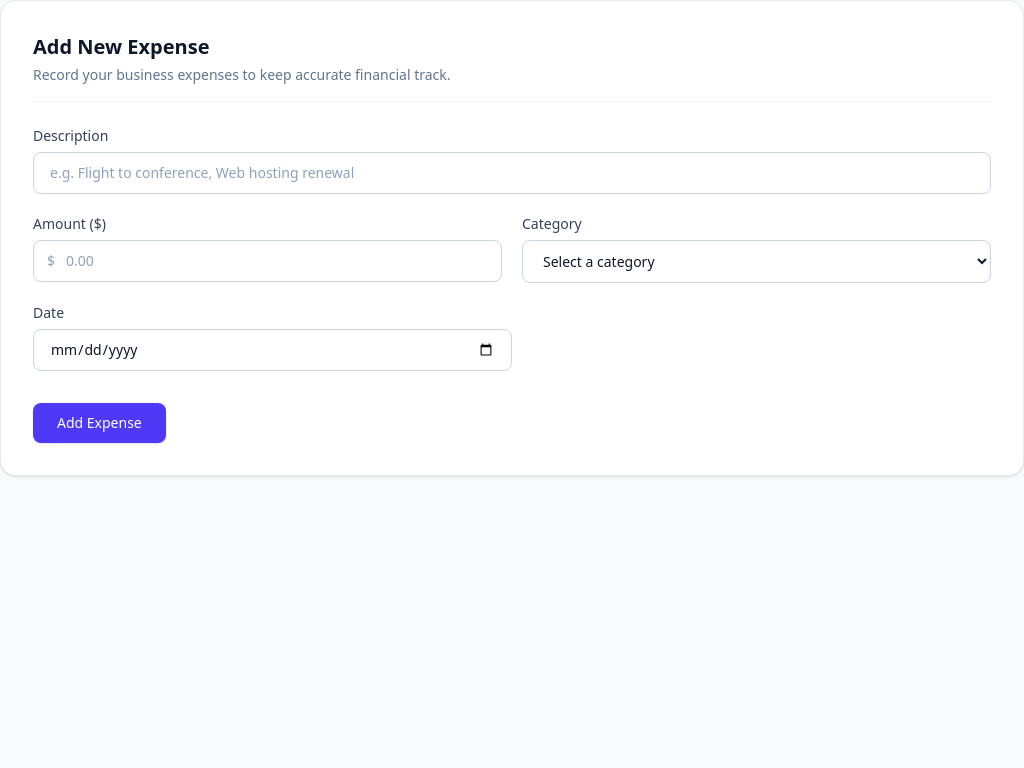
Test: ExpenseForm Component › displays inline error when amount is zero or negative
The image size is (1024, 768).
Type "0" into the number field labelled "Amount ($)" at (268, 261), box [33,240,502,282]
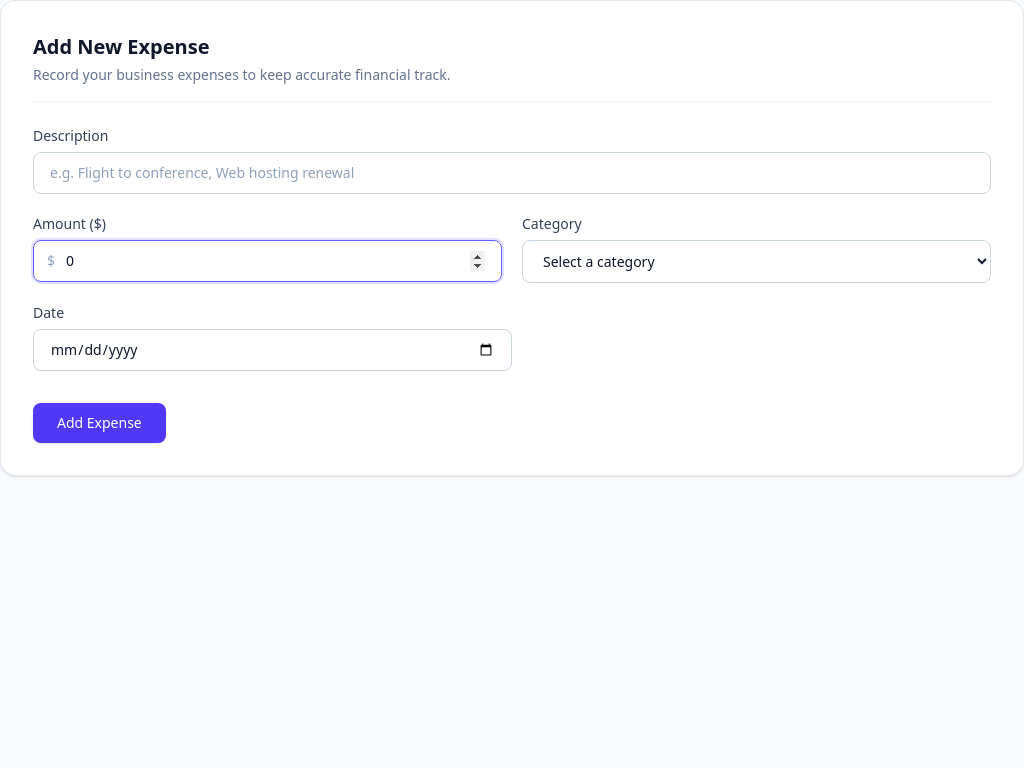
Click the button "Add Expense" at (99, 423), box [33,403,166,443]
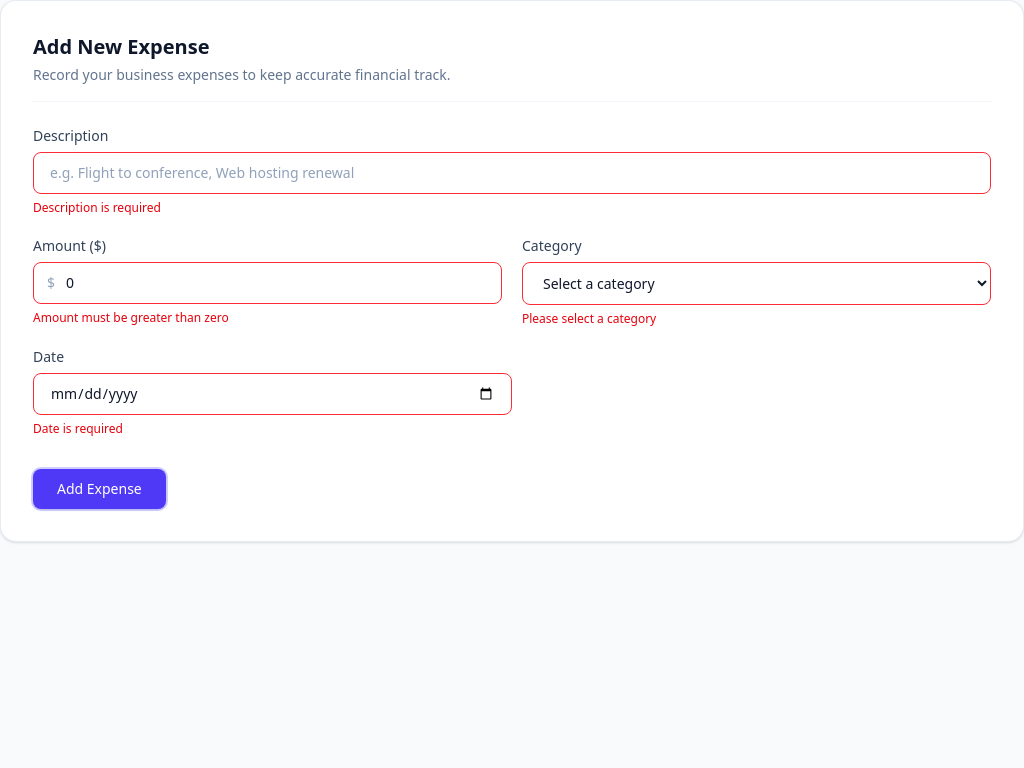
Check: the text "Amount must be greater than zero" is shown, box [33,309,229,326]
Replace the text in the number field labelled "Amount ($)" with "-25" at (268, 283), box [33,262,502,304]
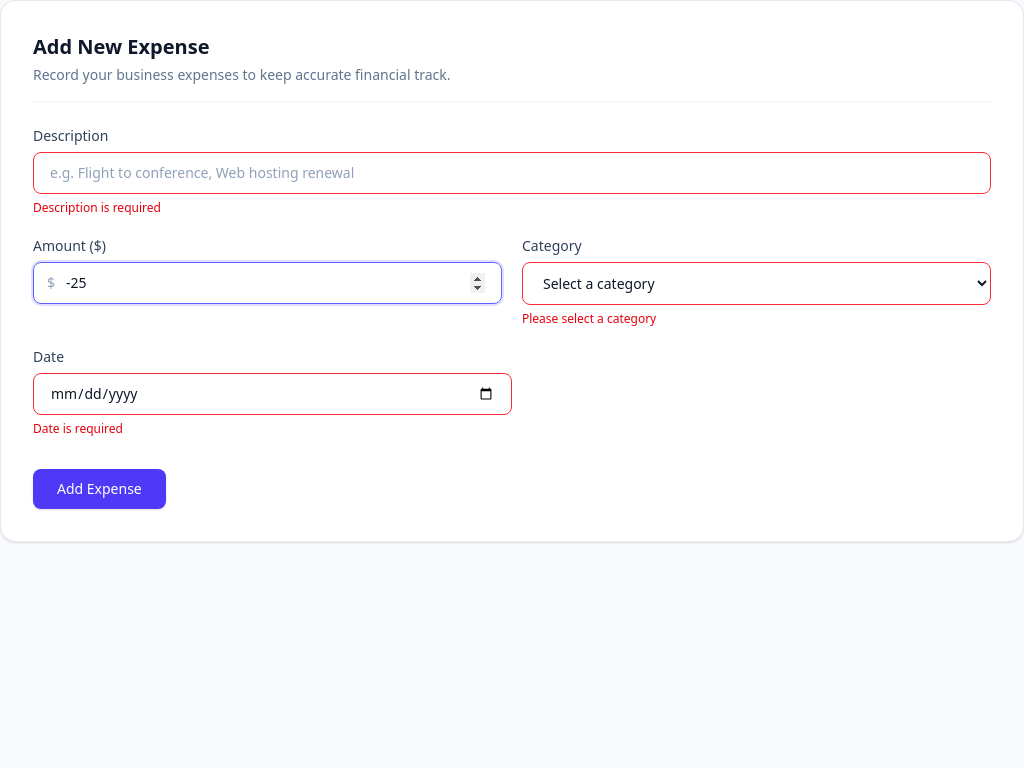
Click the button "Add Expense" at (99, 489), box [33,469,166,509]
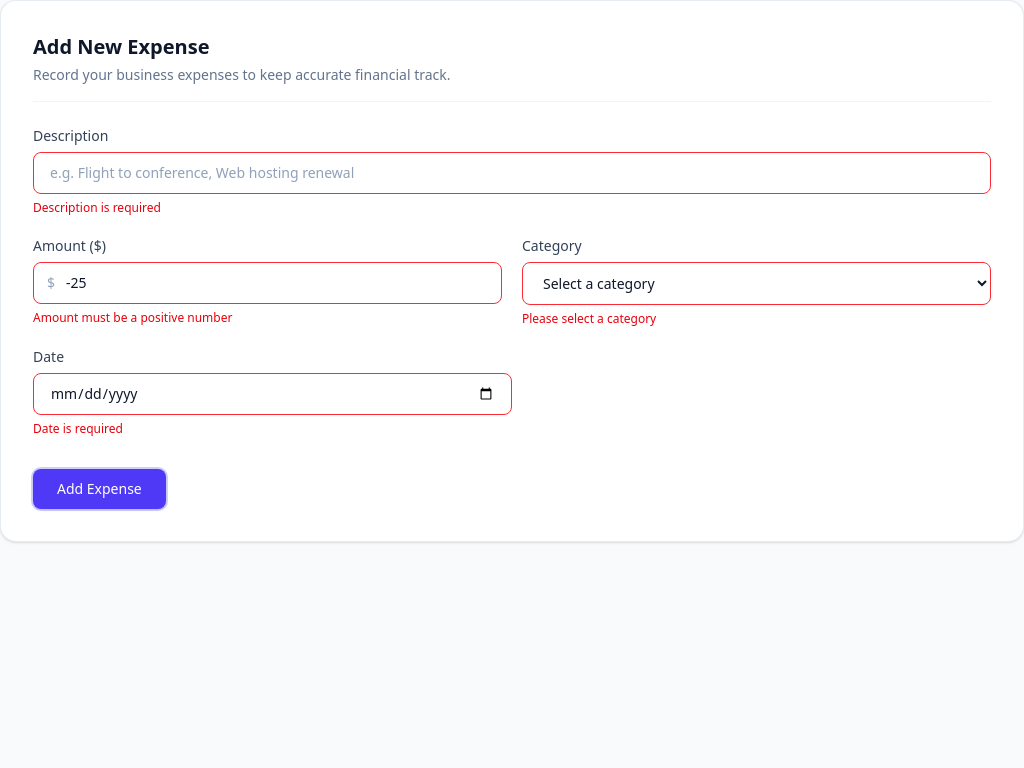
Check: the text "Amount must be a positive number" is shown, box [33,309,232,326]
